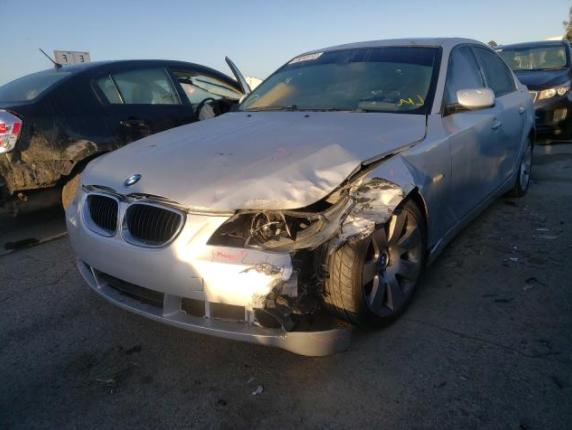Broken part: (65, 202, 348, 355), (294, 111, 452, 260), (81, 181, 238, 218)
Dent: (217, 144, 366, 209), (213, 172, 257, 206)
Missing part: (207, 200, 333, 253)
Scratch: (242, 263, 285, 276), (212, 250, 249, 263)
